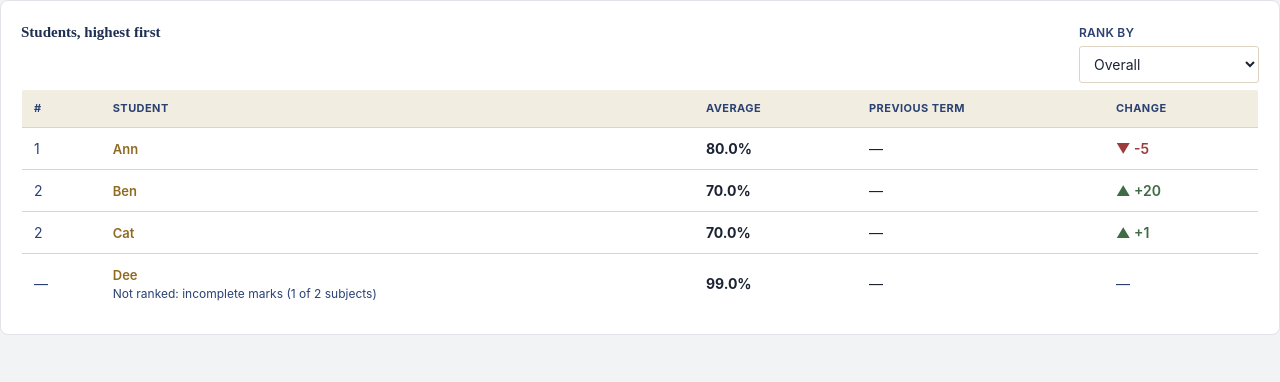
student rankings › D-1: says why a student is not ranked and what each position is based on
Expected: the text "Not ranked: incomplete marks (1 of 2 subjects)" is shown, [113,286,377,300]
Select "Most improved" in the dropdown labelled "Rank by" at (1169, 64), box [1079,46,1259,83]
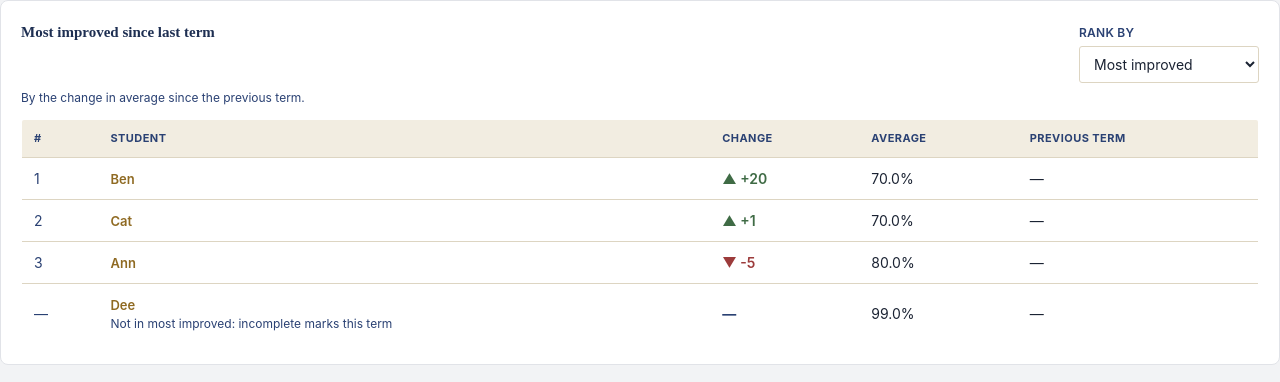
Expected: the text "Not in most improved: incomplete marks this term" is shown, [110,316,392,330]
